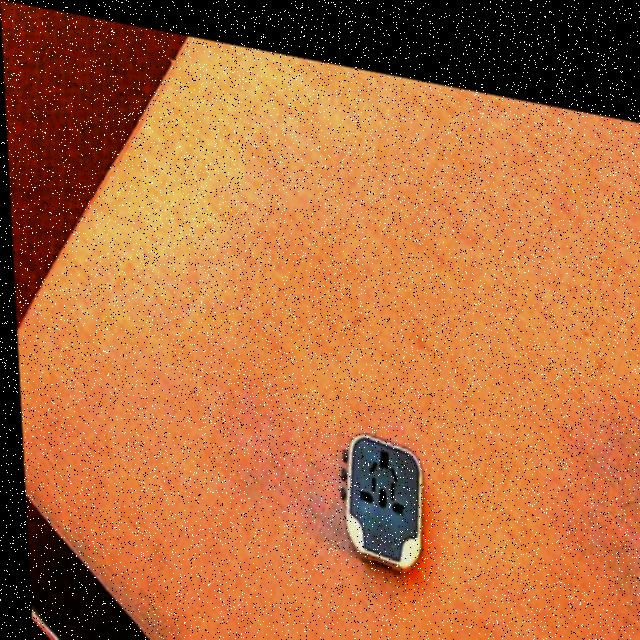adapter: (331, 413, 422, 562)
